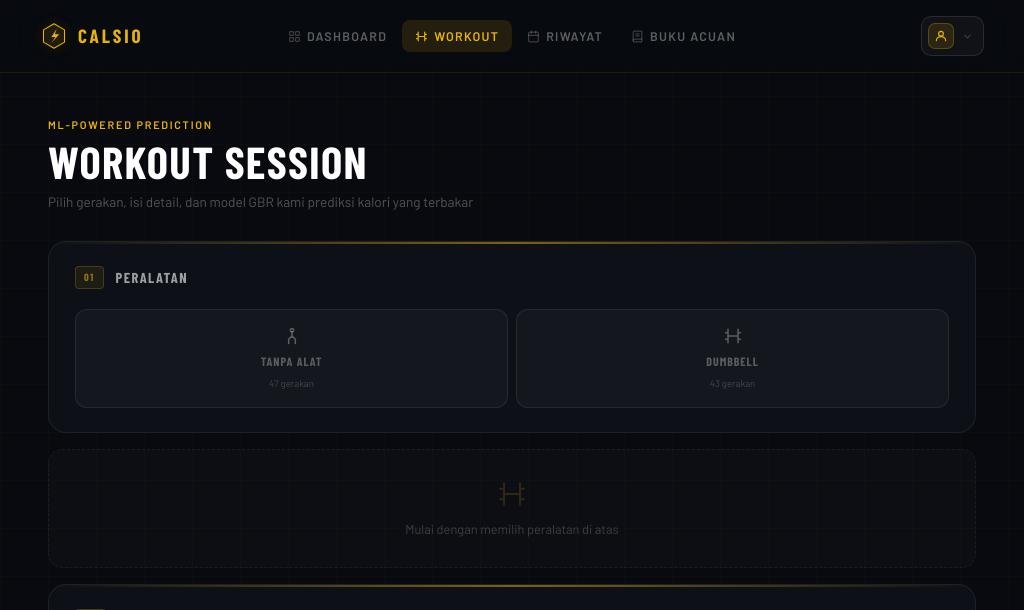
Test: Workout - Core Functions › pilih equipment Tanpa Alat muncul kategori otot
The width and height of the screenshot is (1024, 610).
Click the button "Tanpa Alat 47 gerakan".
click(292, 358)  # box [75,309,508,407]
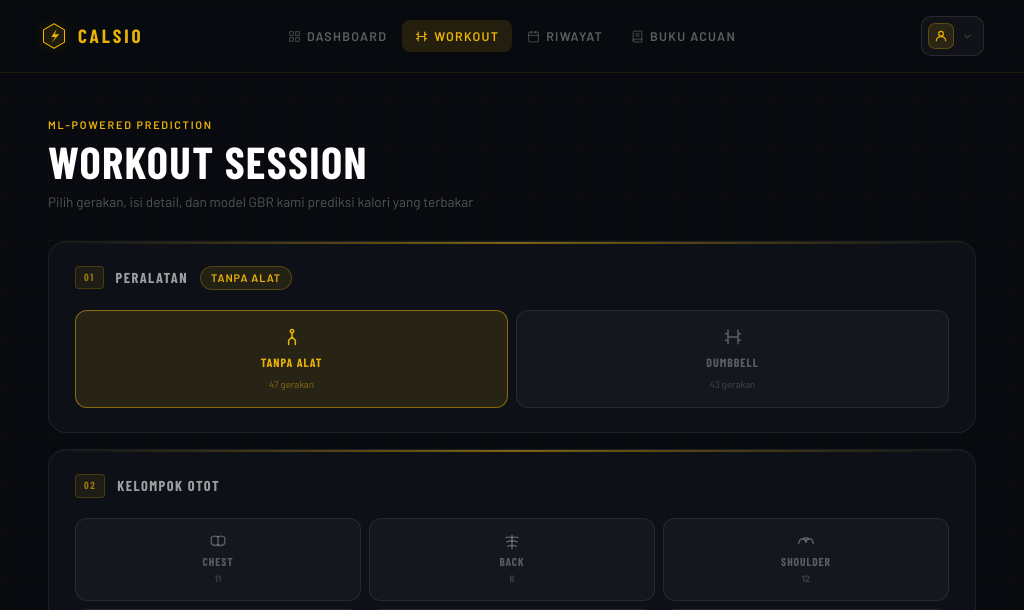
Expected: the button "Chest 11" is shown, [75,518,361,601]
Expected: the button "Back 6" is shown, [369,518,655,601]
